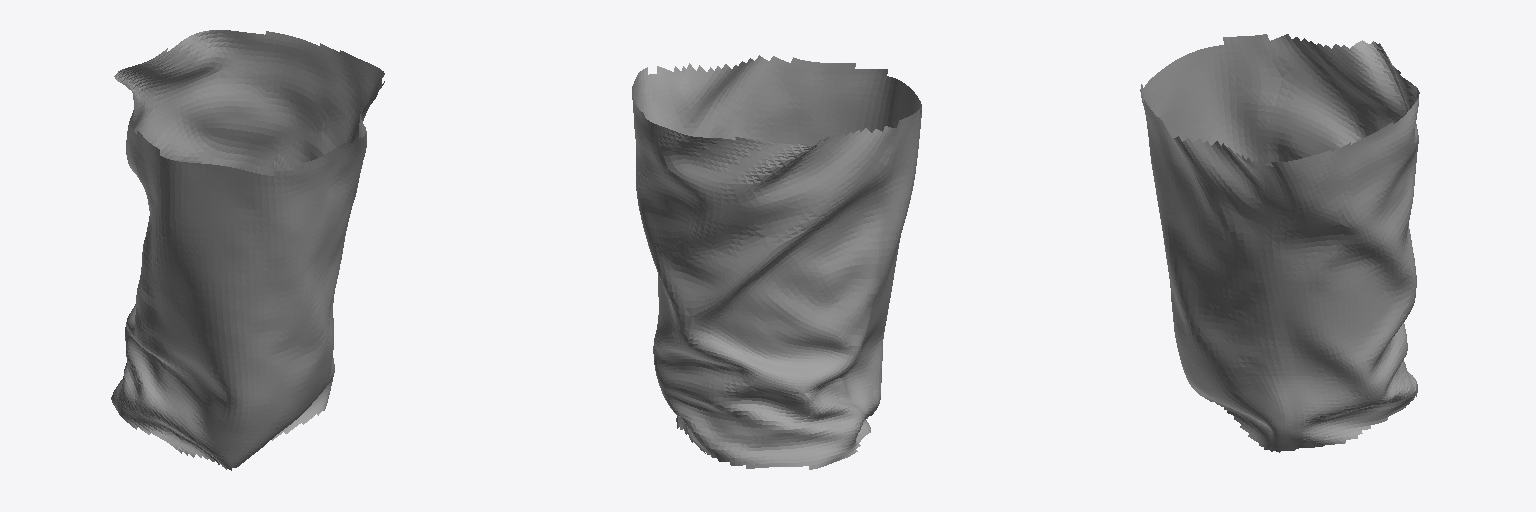
Rendered from musloder.obj.
The picture shows the model from 3 angles: view 1: azimuth 30°, elevation 25°; view 2: azimuth 150°, elevation 25°; view 3: azimuth 270°, elevation 25°; orthographic projection.
Parts seen in each view (by area): view 1: RUST_3d_Low.001; view 2: RUST_3d_Low.001; view 3: RUST_3d_Low.001.
Part boxes in pixels (x1,y1,x2,y2): RUST_3d_Low.001: (111,30,384,470); RUST_3d_Low.001: (632,55,921,469); RUST_3d_Low.001: (1140,34,1419,452).
Size of the model in its own units: 18.27 by 23.6 by 17.56.